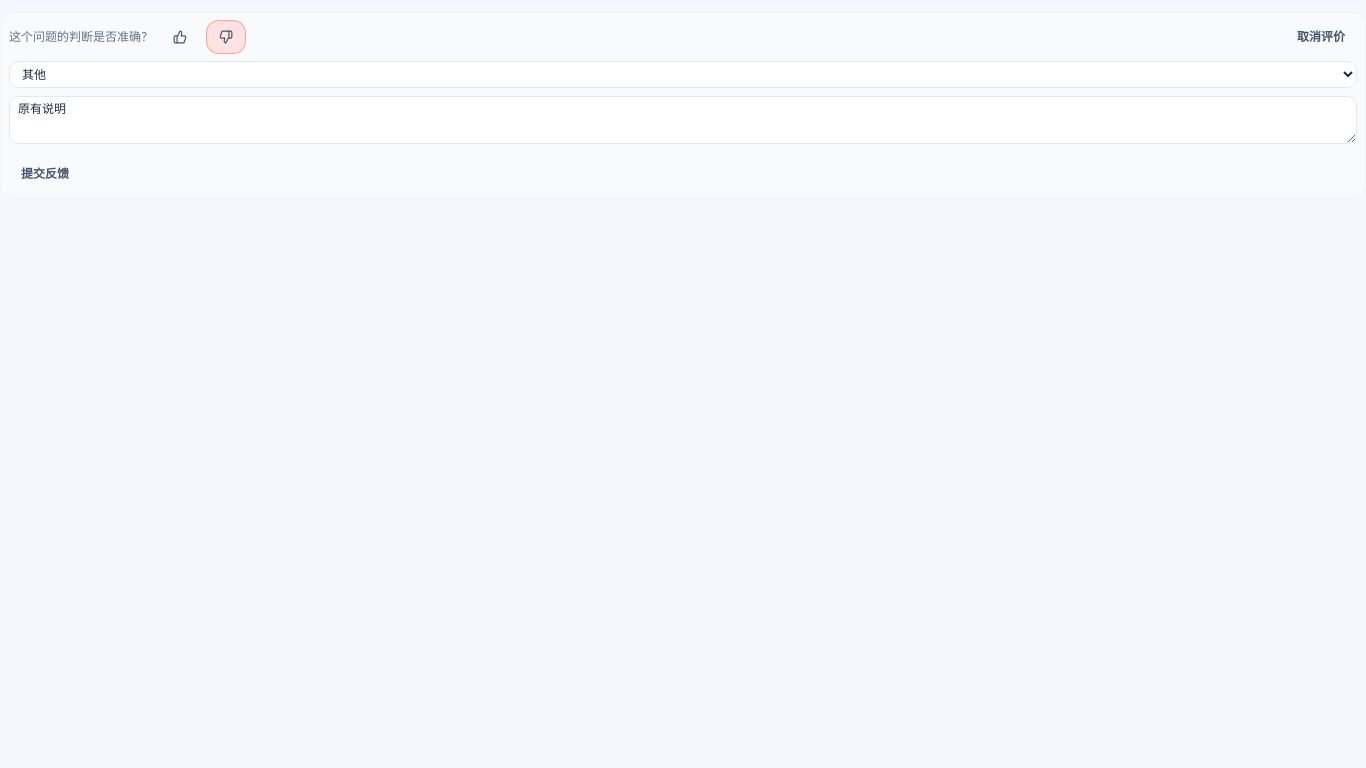
Test: paper lint feedback submission › keeps dialog keyboard actions inside the dialog and restores focus to submit
Click the button "提交反馈": (45, 174) [9,158,81,190]
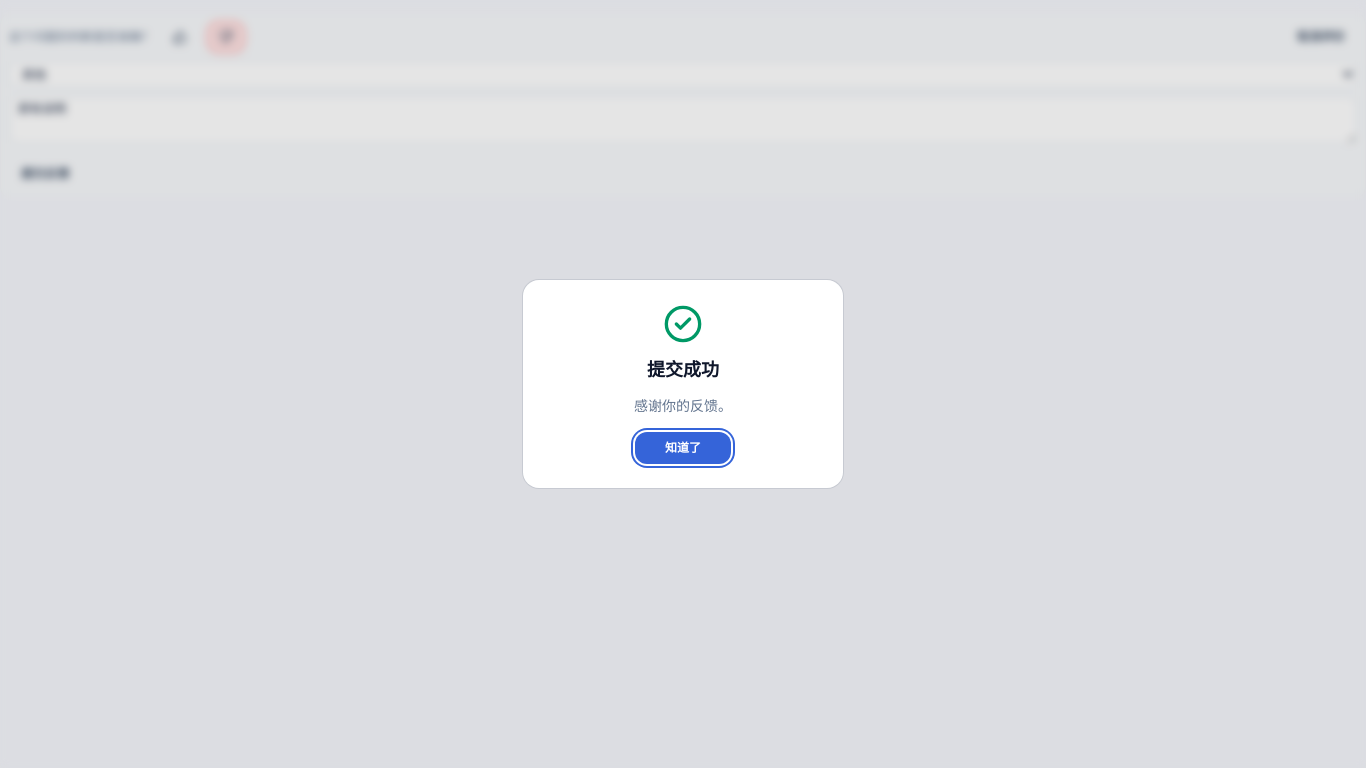
Press Tab
Type keys " "
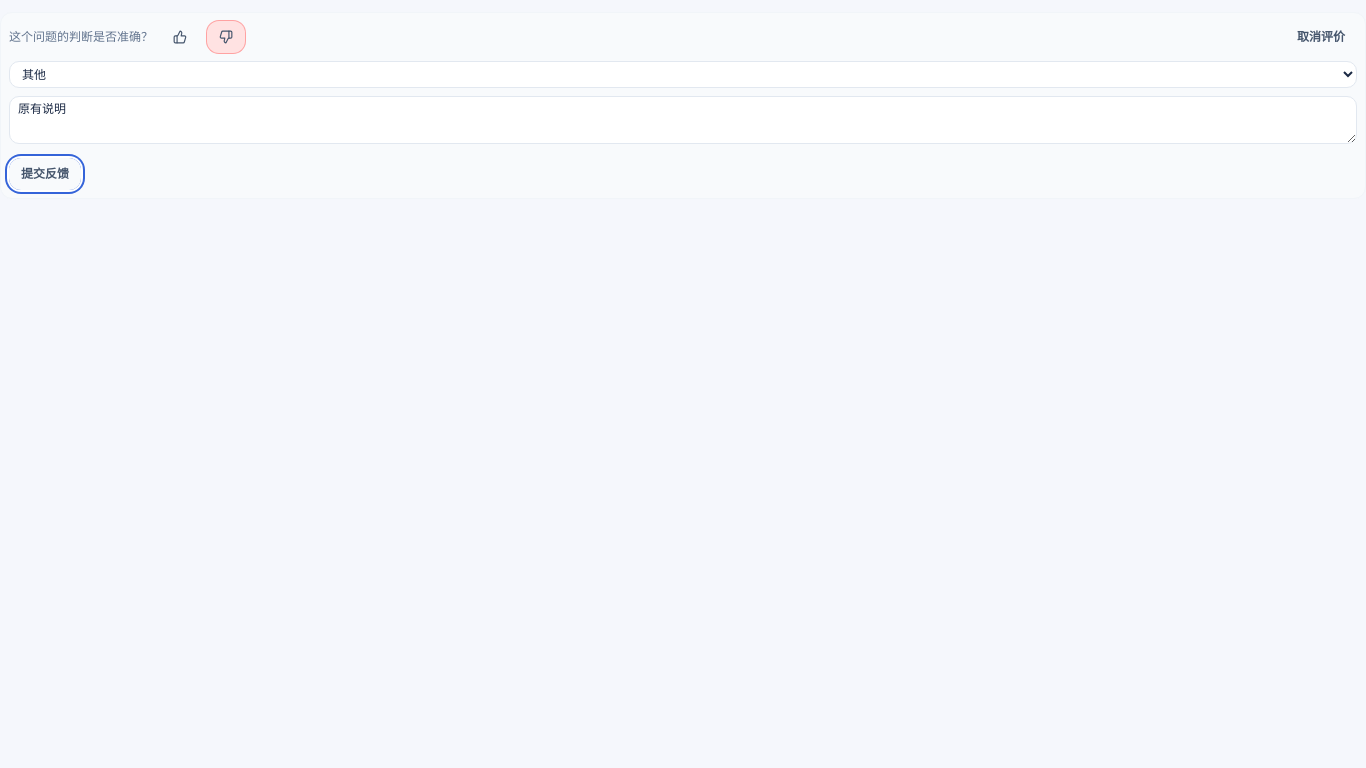
Expected: the dialog is gone
Click the button "提交反馈": (45, 174) [9,158,81,190]
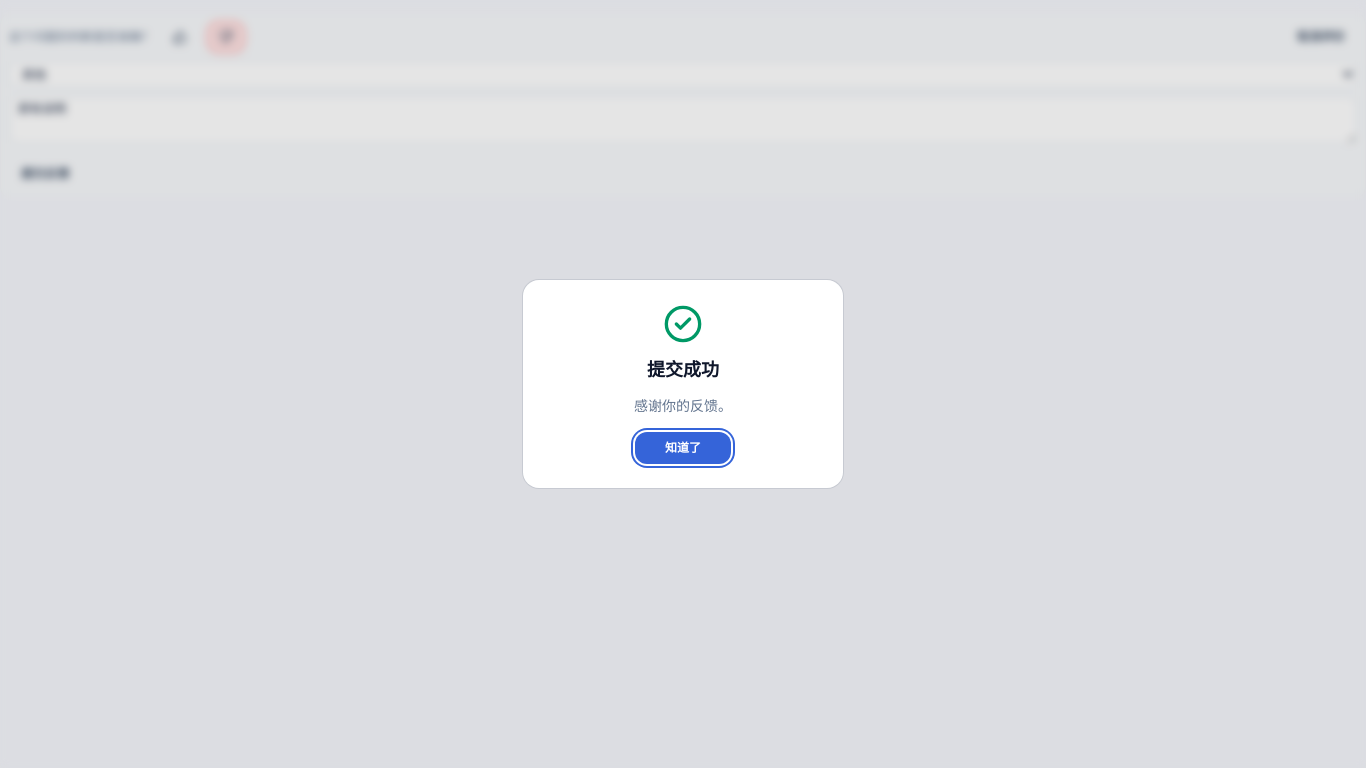
Expected: the dialog "提交成功" is shown, [523,280,843,488]
Press Escape
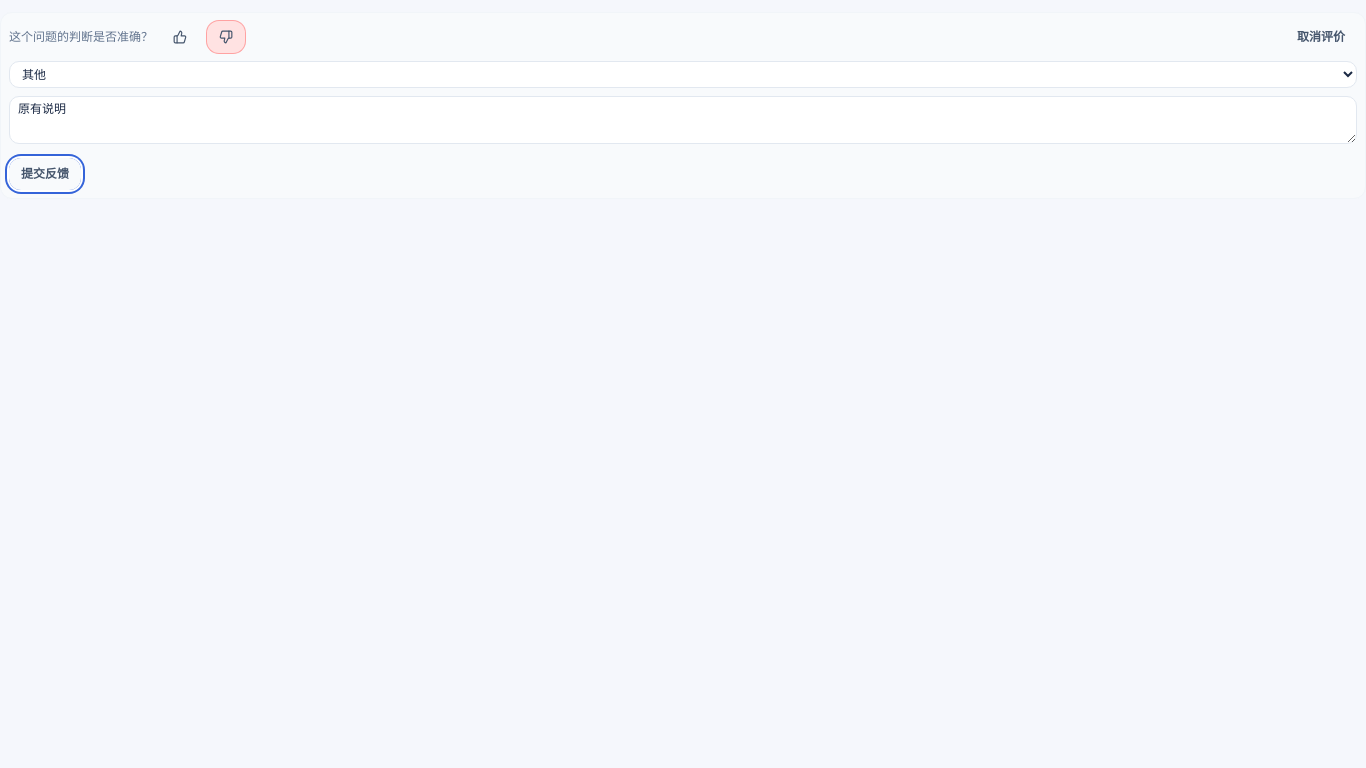
Expected: the dialog is gone
